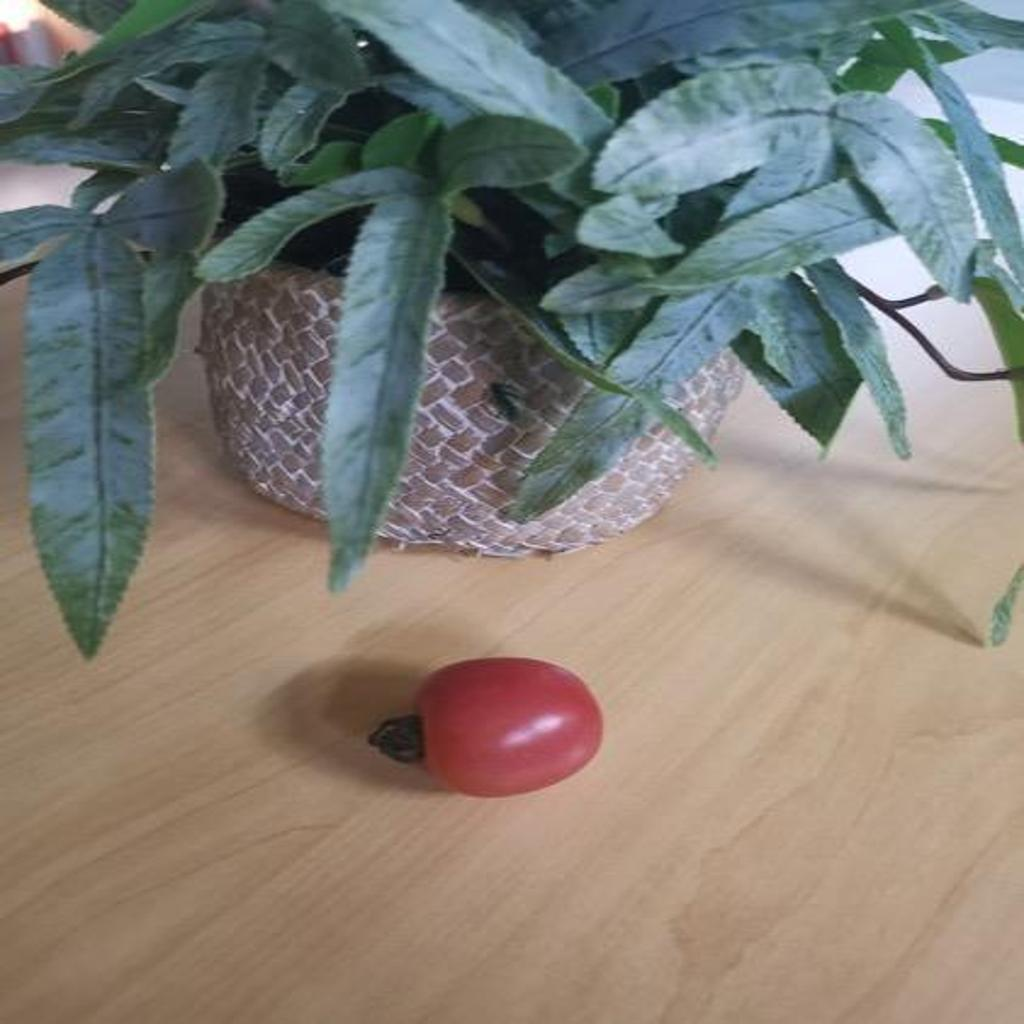tomato: (382, 664, 609, 800)
